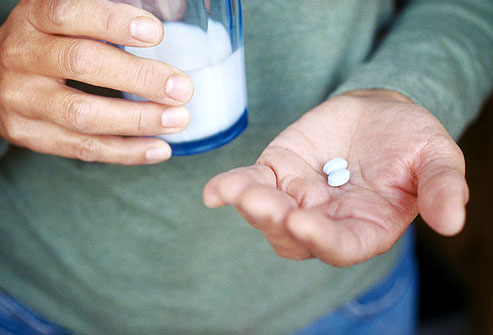glass of milk: (171, 1, 252, 150)
